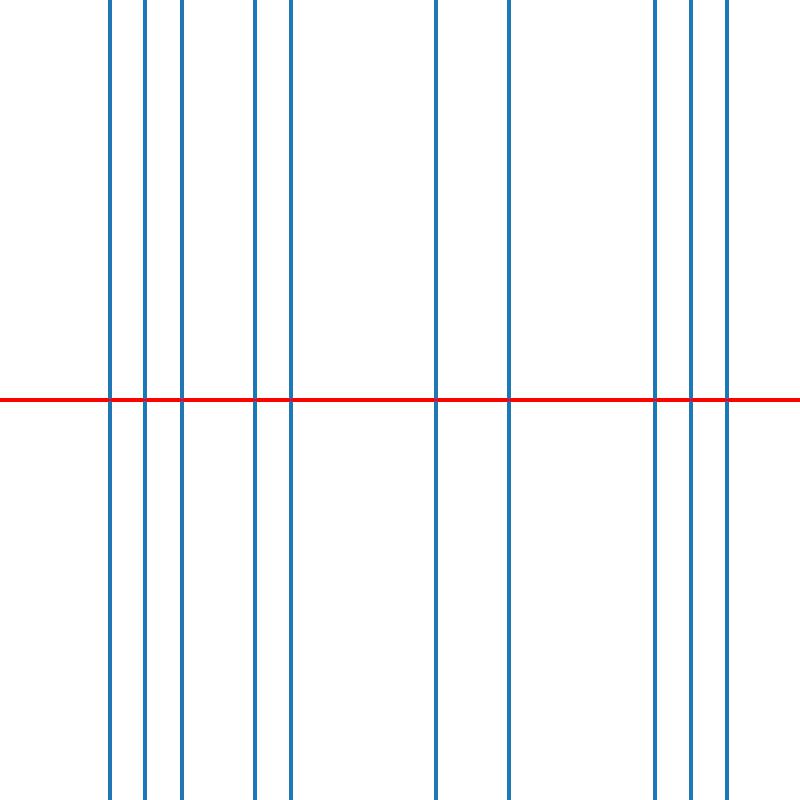root: (141, 396, 149, 404), (432, 396, 440, 404), (250, 396, 258, 404), (650, 396, 658, 404), (723, 396, 730, 404), (178, 396, 185, 404), (287, 396, 294, 404), (505, 396, 512, 404), (105, 396, 112, 404), (687, 396, 694, 404)
